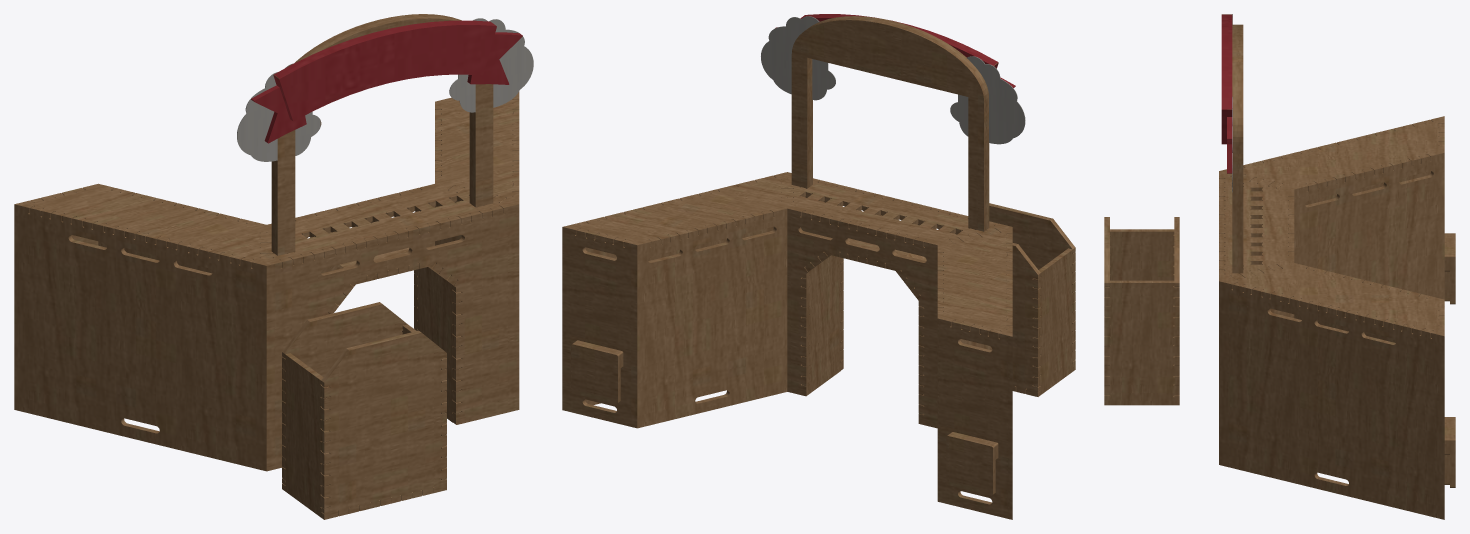
File: theater.glb
3 renders of one model, left to right at view 1: azimuth 30°, elevation 25°; view 2: azimuth 150°, elevation 25°; view 3: azimuth 270°, elevation 25°, orthographic. The views are drawn at different scales.
Visible parts, largest first — view 1: theaer; view 2: theaer; view 3: theaer.
Boxes of the visible parts, x1,y1,x2,y2 form: theaer: (14, 14, 533, 519); theaer: (562, 14, 1075, 519); theaer: (1104, 14, 1455, 519).
Size of the model in its own units: 1.83 by 1.42 by 1.23.
Materials: 3 (3 with a texture image).
